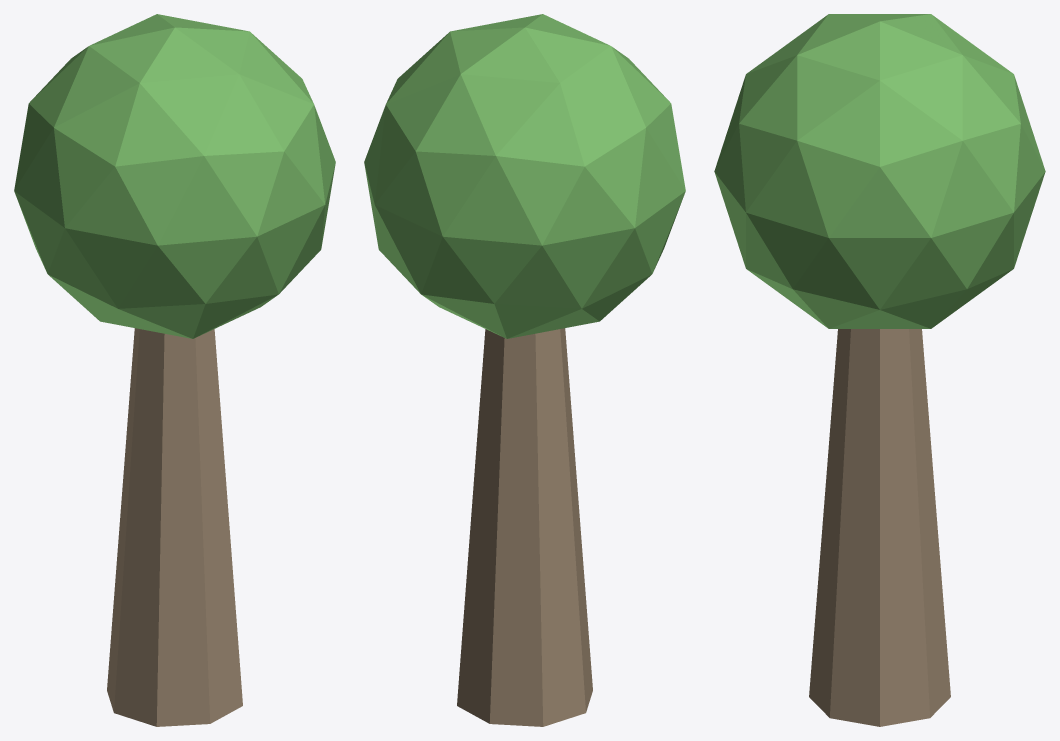
File: oak_small.glb
3 renders of one model, left to right at view 1: azimuth 30°, elevation 25°; view 2: azimuth 150°, elevation 25°; view 3: azimuth 270°, elevation 25°, orthographic.
Parts seen in each view (by area): view 1: Deciduous; view 2: Deciduous; view 3: Deciduous.
Boxes of the visible parts, <box> form: Deciduous: <box>14,14,335,726</box>; Deciduous: <box>364,14,685,726</box>; Deciduous: <box>714,14,1045,726</box>.
Size of the model in its own units: 0.6657 by 1.57 by 0.7.
